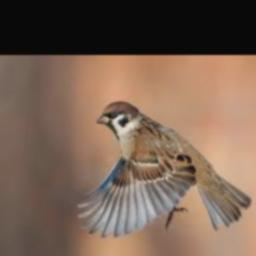Sparrow: (78, 101, 252, 238)
